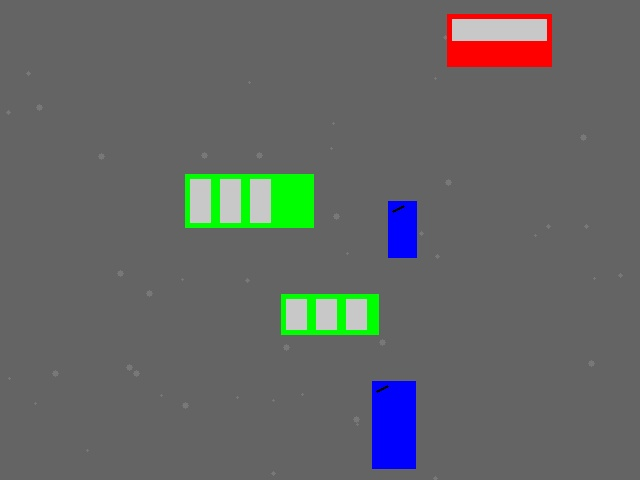bus: (185, 174, 313, 227), (281, 294, 378, 334)
car: (447, 14, 551, 66)
motorcycle: (372, 381, 415, 468), (388, 201, 416, 257)
